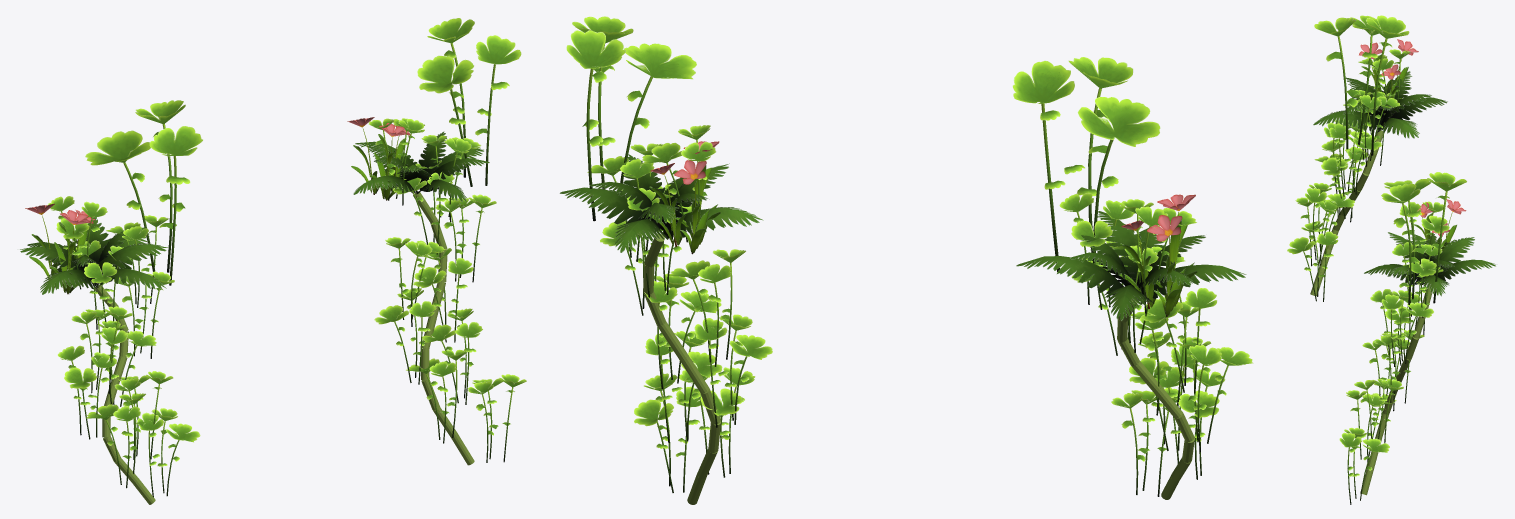
The model's file is Rusted_Water_Tank_Greenery.glb.
The picture shows the model from 3 angles, left to right: view 1: azimuth 30°, elevation 25°; view 2: azimuth 150°, elevation 25°; view 3: azimuth 270°, elevation 25°; orthographic projection. The views are drawn at different scales.
Visible parts, largest first — view 1: Patch_00, Patch_02, Patch_01, Patch_03; view 2: Patch_02, Patch_00, Patch_01, Patch_03; view 3: Patch_02, Patch_00, Patch_01, Patch_03.
Part boxes in pixels (bbox=[...]): Patch_00: bbox=[20, 100, 202, 504]; Patch_02: bbox=[353, 18, 526, 465]; Patch_01: bbox=[25, 203, 94, 294]; Patch_03: bbox=[347, 117, 410, 200]; Patch_02: bbox=[559, 16, 772, 504]; Patch_00: bbox=[1012, 57, 1253, 499]; Patch_01: bbox=[1119, 194, 1197, 316]; Patch_03: bbox=[649, 141, 720, 254]; Patch_02: bbox=[1339, 172, 1496, 504]; Patch_00: bbox=[1287, 15, 1447, 301]; Patch_01: bbox=[1359, 39, 1418, 118]; Patch_03: bbox=[1413, 199, 1466, 257].
Size of the model in its own units: 1.98 by 1.57 by 0.8635.
5 materials, 4 textured.
